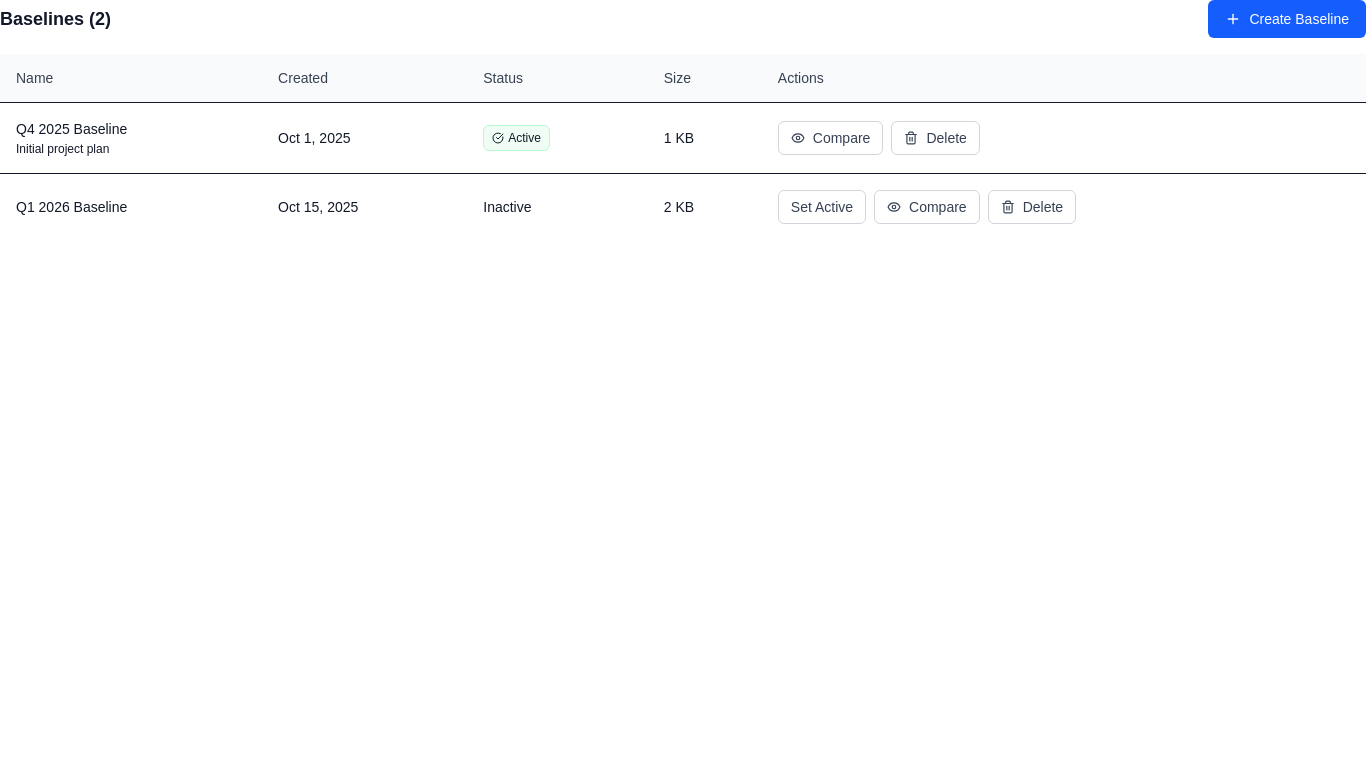
BaselineList › Create Baseline Button › opens create dialog when button clicked
The width and height of the screenshot is (1366, 768).
Click the button "Create Baseline": (1287, 19) [1208,0,1365,38]
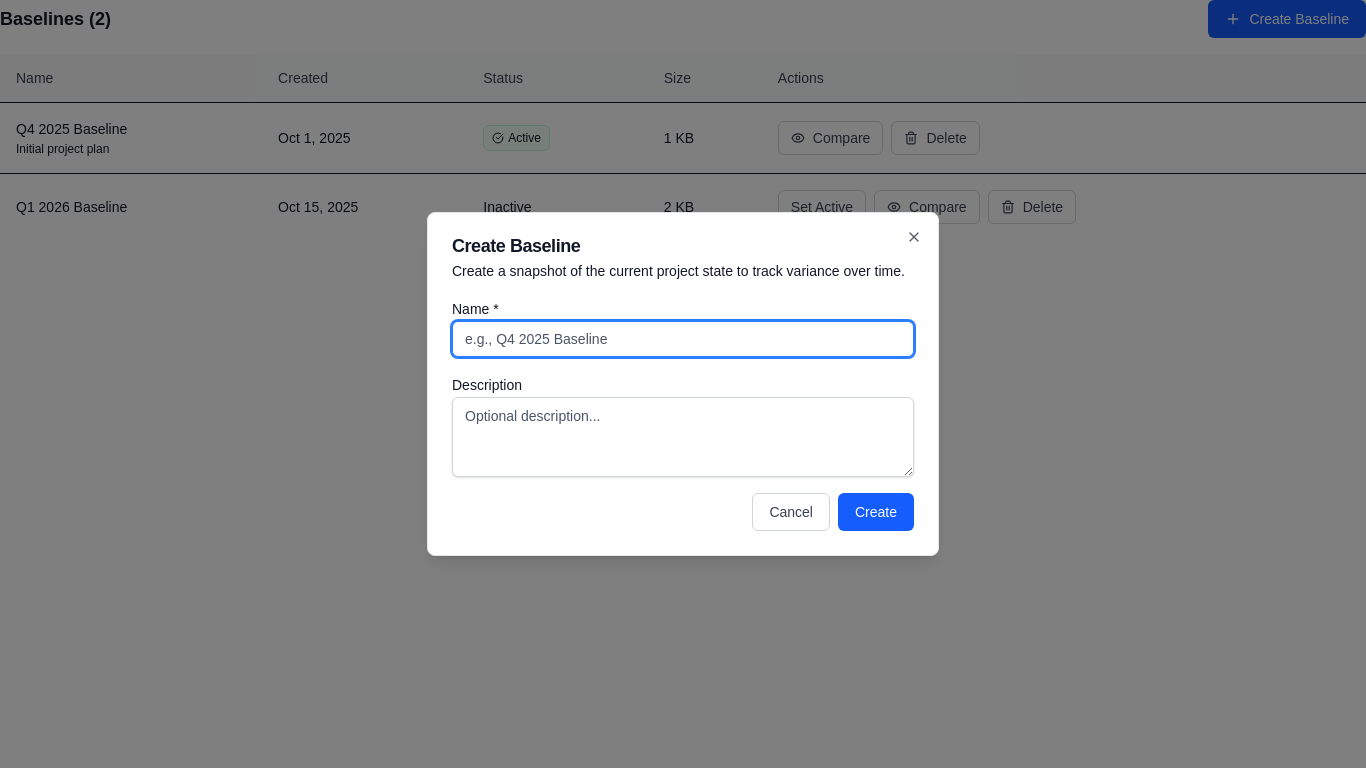
Now the dialog is shown, box [427,212,939,556]
